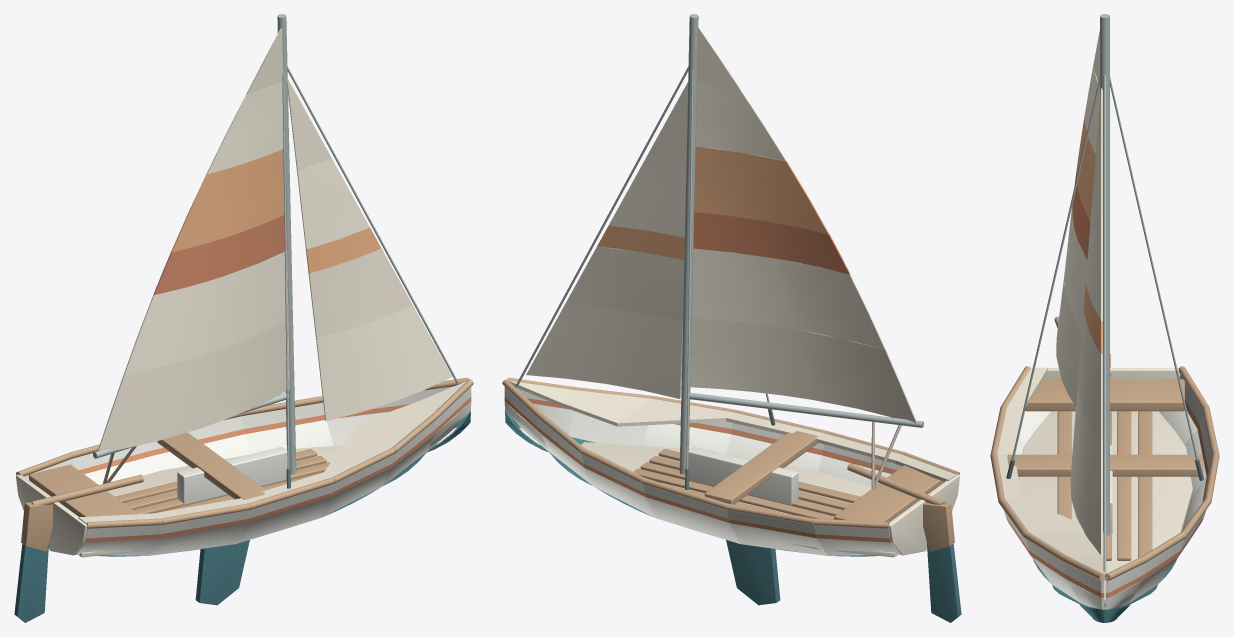
3 renders of one model, left to right at view 1: azimuth 30°, elevation 25°; view 2: azimuth 150°, elevation 25°; view 3: azimuth 270°, elevation 25°, orthographic. The views are drawn at different scales.
Visible parts, largest first — view 1: Mainsail cloth 1, Mainsail cloth 2, Jib cloth 1, Mainsail cloth 4, Jib cloth 2, Mainsail cloth 3, Jib cloth 4, Mainsail cloth 5, Centerboard trunk, Thwart, Aft seat, Mast (+33 smaller); view 2: Mainsail cloth 1, Mainsail cloth 2, Jib cloth 1, Mainsail cloth 4, Jib cloth 2, Mainsail cloth 3, Mainsail cloth 5, Jib cloth 4, Mast, Cockpit sole, Thwart, Centerboard trunk (+35 smaller); view 3: Cockpit sole, Aft seat, Jib cloth 1, Thwart, Mast, Jib cloth 2, Forestay, Floorboard 2, Mainsail cloth 1, Floorboard 1, Mainsail cloth 2, Jib cloth 4 (+38 smaller).
Boxes of the visible parts, left/top/right/bottom form: Mainsail cloth 1: left=97, top=320, right=289, bottom=450; Mainsail cloth 2: left=124, top=251, right=288, bottom=374; Jib cloth 1: left=316, top=305, right=452, bottom=420; Mainsail cloth 4: left=171, top=149, right=284, bottom=252; Jib cloth 2: left=308, top=248, right=412, bottom=338; Mainsail cloth 3: left=153, top=215, right=286, bottom=294; Jib cloth 4: left=297, top=158, right=369, bottom=249; Mainsail cloth 5: left=206, top=83, right=283, bottom=174; Centerboard trunk: left=177, top=446, right=287, bottom=505; Thwart: left=157, top=432, right=266, bottom=499; Aft seat: left=28, top=464, right=138, bottom=517; Mast: left=277, top=14, right=296, bottom=474; Mainsail cloth 1: left=690, top=318, right=916, bottom=423; Mainsail cloth 2: left=692, top=248, right=885, bottom=349; Jib cloth 1: left=526, top=303, right=682, bottom=398; Mainsail cloth 4: left=694, top=146, right=829, bottom=234; Jib cloth 2: left=566, top=246, right=684, bottom=321; Mainsail cloth 3: left=693, top=212, right=850, bottom=274; Mainsail cloth 5: left=695, top=81, right=786, bottom=161; Jib cloth 4: left=608, top=157, right=686, bottom=237; Mast: left=679, top=14, right=698, bottom=474; Cockpit sole: left=581, top=442, right=897, bottom=557; Thwart: left=704, top=431, right=818, bottom=504; Centerboard trunk: left=688, top=446, right=798, bottom=505; Cockpit sole: left=1018, top=411, right=1192, bottom=603; Aft seat: left=1025, top=379, right=1184, bottom=411; Jib cloth 1: left=1070, top=386, right=1102, bottom=555; Thwart: left=1007, top=454, right=1202, bottom=476; Mast: left=1100, top=14, right=1109, bottom=535; Jib cloth 2: left=1077, top=311, right=1102, bottom=443; Forestay: left=1103, top=75, right=1106, bottom=574; Floorboard 2: left=1117, top=411, right=1131, bottom=560; Mainsail cloth 1: left=1056, top=277, right=1081, bottom=406; Floorboard 1: left=1138, top=411, right=1152, bottom=557; Mainsail cloth 2: left=1064, top=205, right=1087, bottom=332; Jib cloth 4: left=1085, top=193, right=1102, bottom=321.
Bounding box in the file's own units: 3.64 × 4.36 × 1.42.
